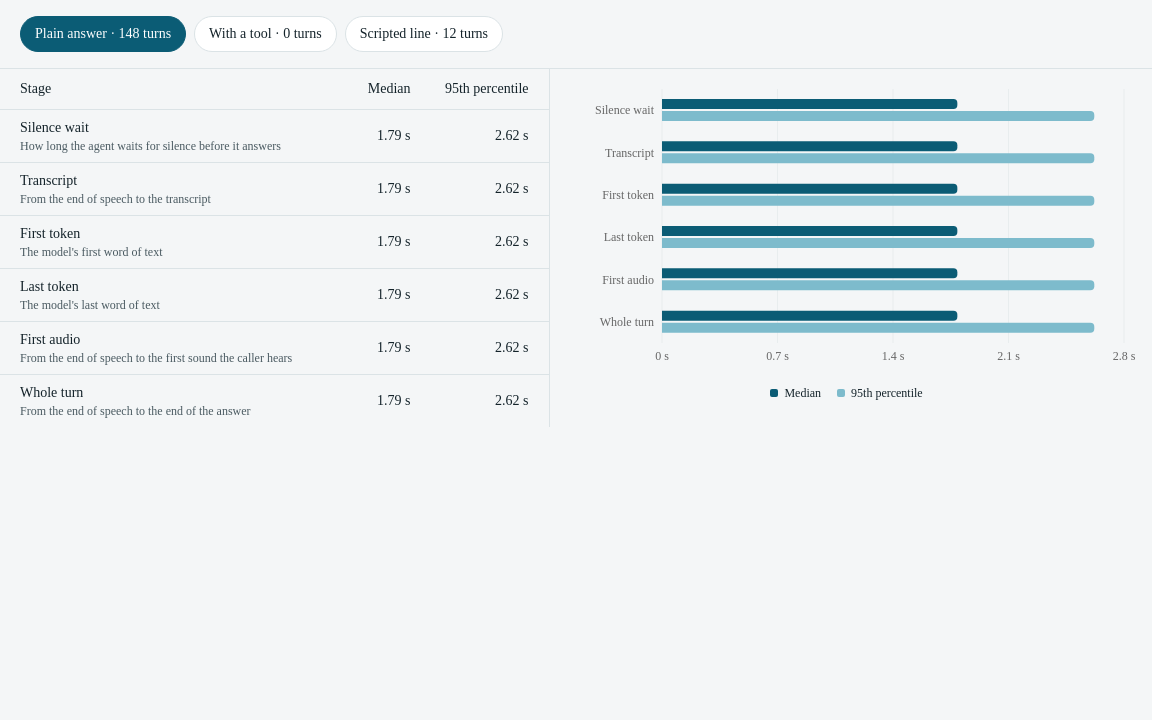
metrics without enough figures › a kind with no turns at all says so, and nothing else
Click the radio button labelled "With a tool · 0 turns": coordinates (265, 34) [194, 16, 337, 52]
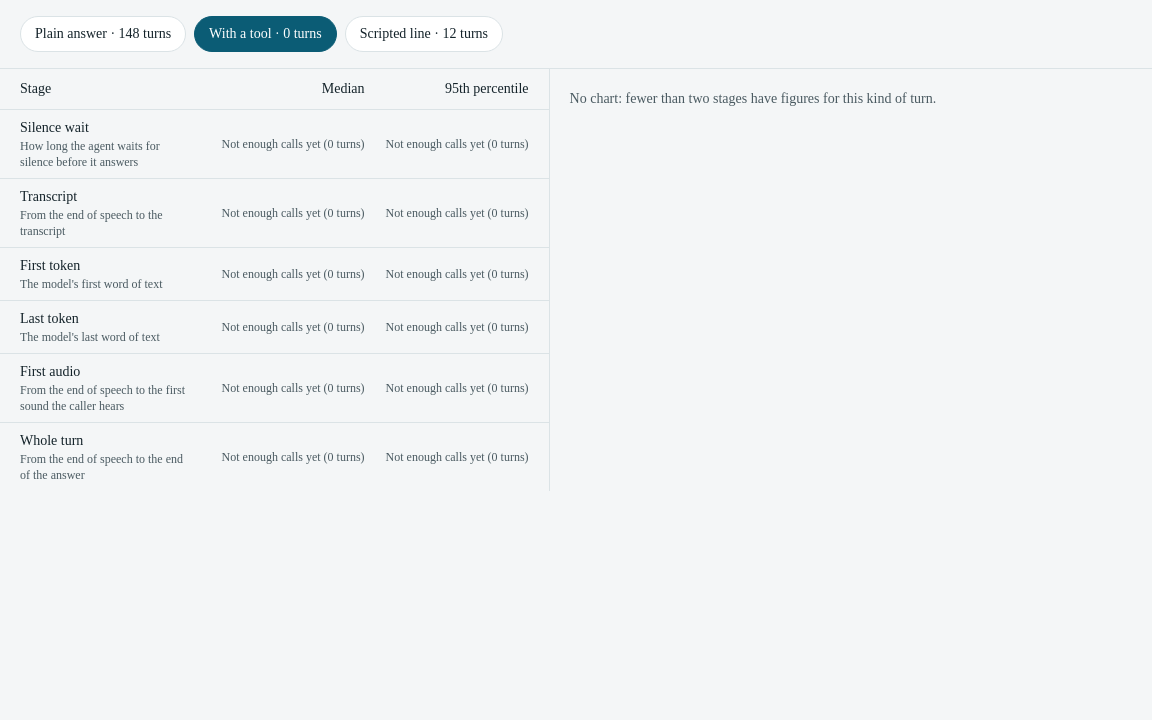
expect the picture is gone: met
